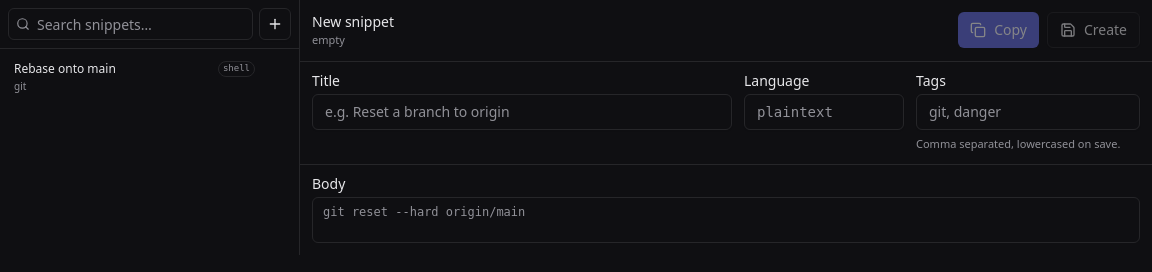
SnippetsPage copy › copies the editor's body, including edits that were never saved
Click the text "Rebase onto main" at {"x": 65, "y": 68}, box [14,60,116,77]
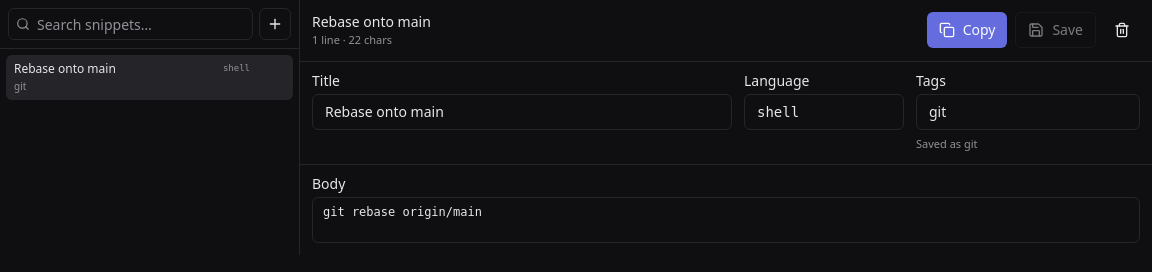
Replace the text in the text box labelled "Body" with "git reset --hard" at {"x": 726, "y": 220}, box [312,197,1140,243]
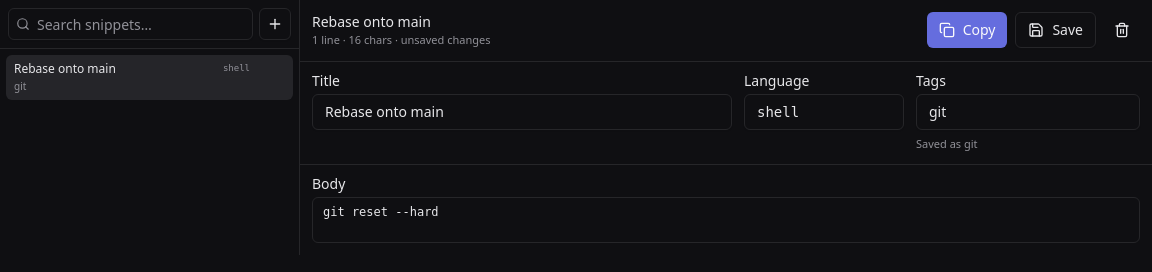
Click the button "Copy" at {"x": 967, "y": 30}, box [927,12,1007,48]
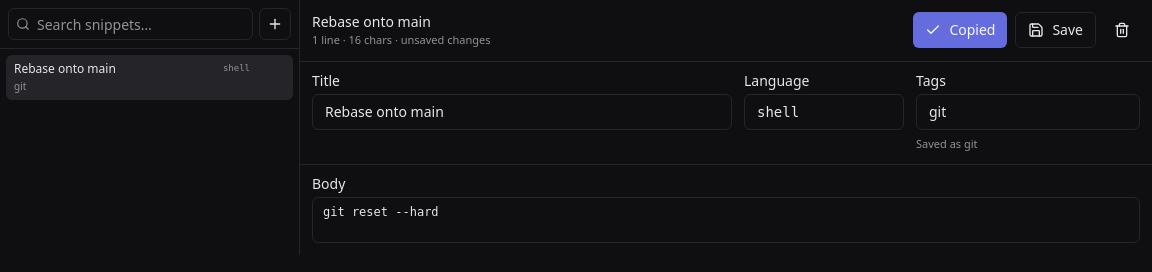
Now the button "Copied" is shown, box [913,12,1007,48]
